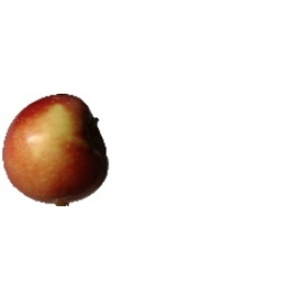maçã braeburn: (1, 83, 111, 205)
